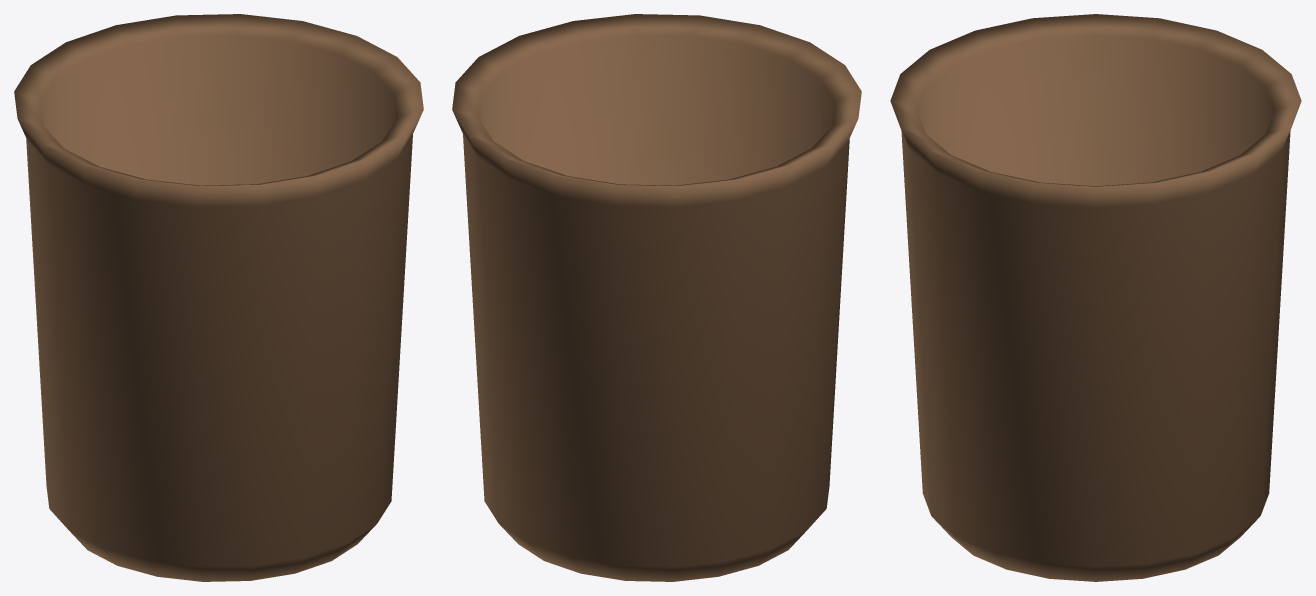
Rendered from Teacup.gltf.
The picture shows the model from 3 angles, left to right: view 1: azimuth 30°, elevation 25°; view 2: azimuth 150°, elevation 25°; view 3: azimuth 270°, elevation 25°; orthographic projection.
Parts seen in each view (by area): view 1: A_Teacup; view 2: A_Teacup; view 3: A_Teacup.
Part boxes in pixels (x1=…): A_Teacup: x1=14, y1=14, x2=423, y2=581; A_Teacup: x1=452, y1=14, x2=861, y2=581; A_Teacup: x1=890, y1=14, x2=1301, y2=581.
Size of the model in its own units: 0.076 by 0.085 by 0.076.
